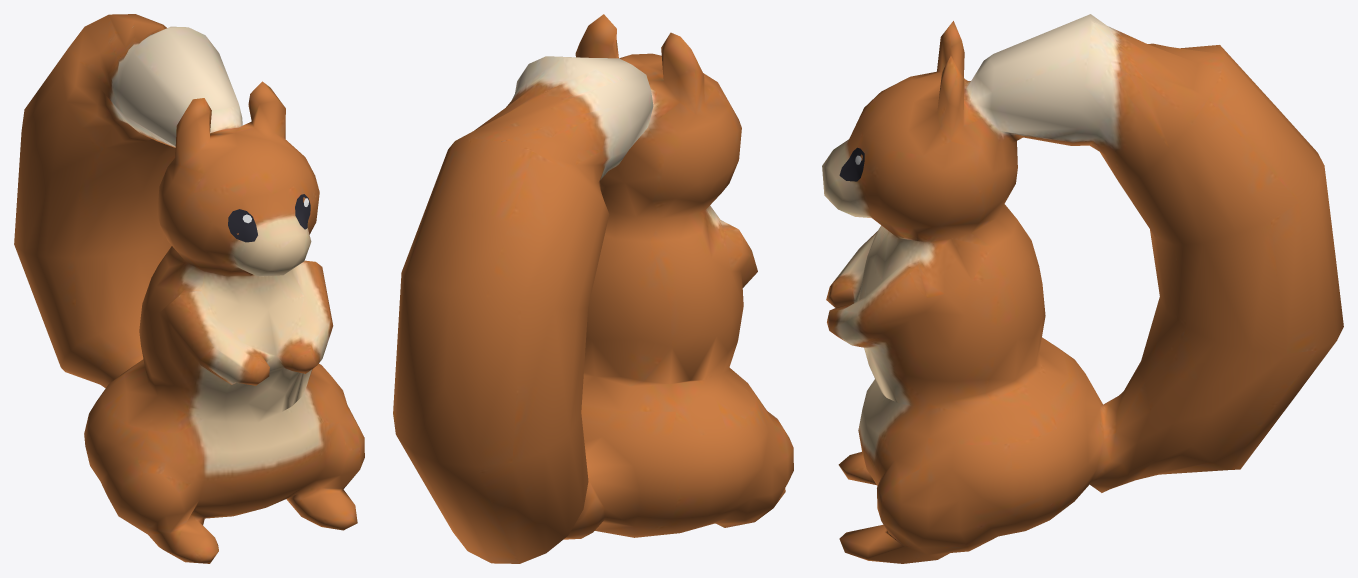
Rendered from squirrel.glb.
3 renders of one model, left to right at view 1: azimuth 30°, elevation 25°; view 2: azimuth 150°, elevation 25°; view 3: azimuth 270°, elevation 25°, orthographic. The views are drawn at different scales.
Parts seen in each view (by area): view 1: squirrel; view 2: squirrel; view 3: squirrel.
Part boxes in pixels (bbox=[...]): squirrel: bbox=[14, 14, 364, 563]; squirrel: bbox=[393, 14, 793, 563]; squirrel: bbox=[822, 14, 1343, 563].
Bounding box in the file's own units: 0.837 × 1.47 × 1.39.
3 materials, 1 textured.
